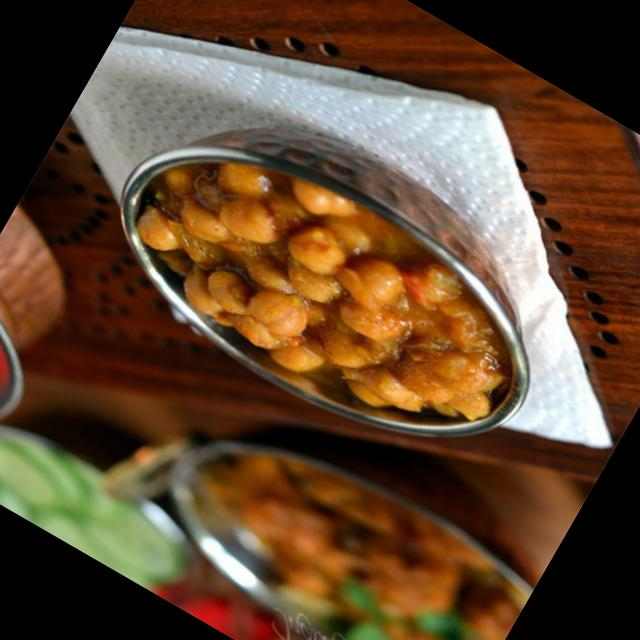Chole: (109, 112, 546, 468)
